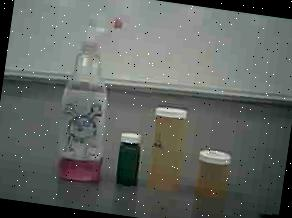Bottle A: (140, 97, 197, 202)
Bottle B: (183, 138, 246, 209)
Bottle C: (110, 126, 148, 195)
hazard: (45, 2, 130, 188)
